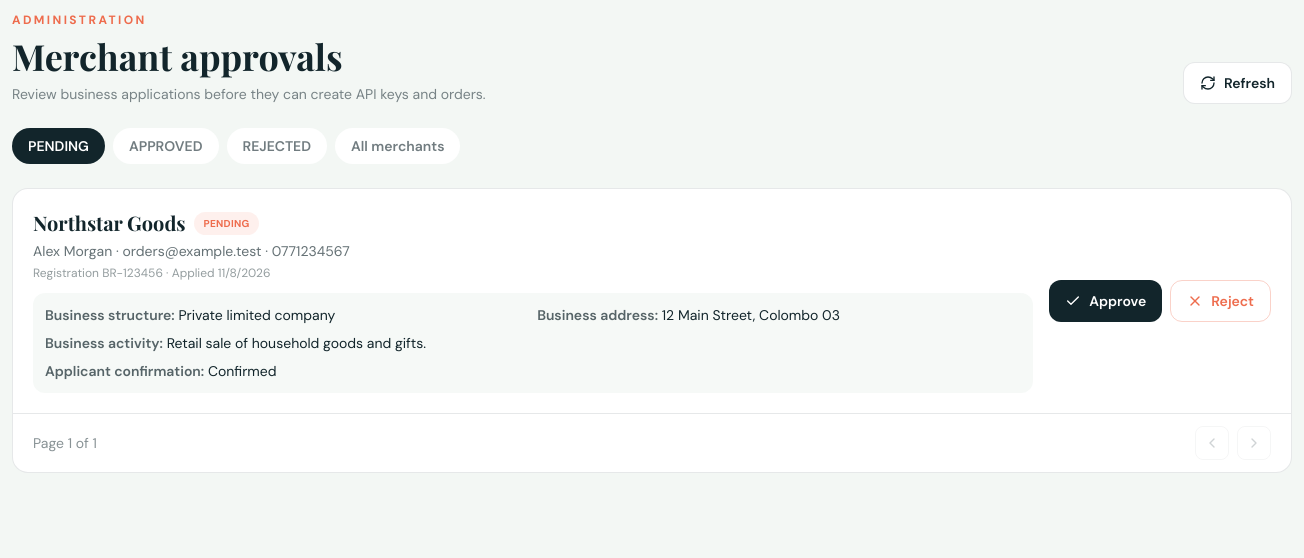
Test: MerchantApprovalsPage › refreshes the current ALL filter when approval finishes after the filter changes
Expected: the heading "Northstar Goods" is shown, top-left (33, 209), bottom-right (186, 237)
Click the button "Approve" at [1106, 301], box top-left (1049, 280), bottom-right (1162, 322)
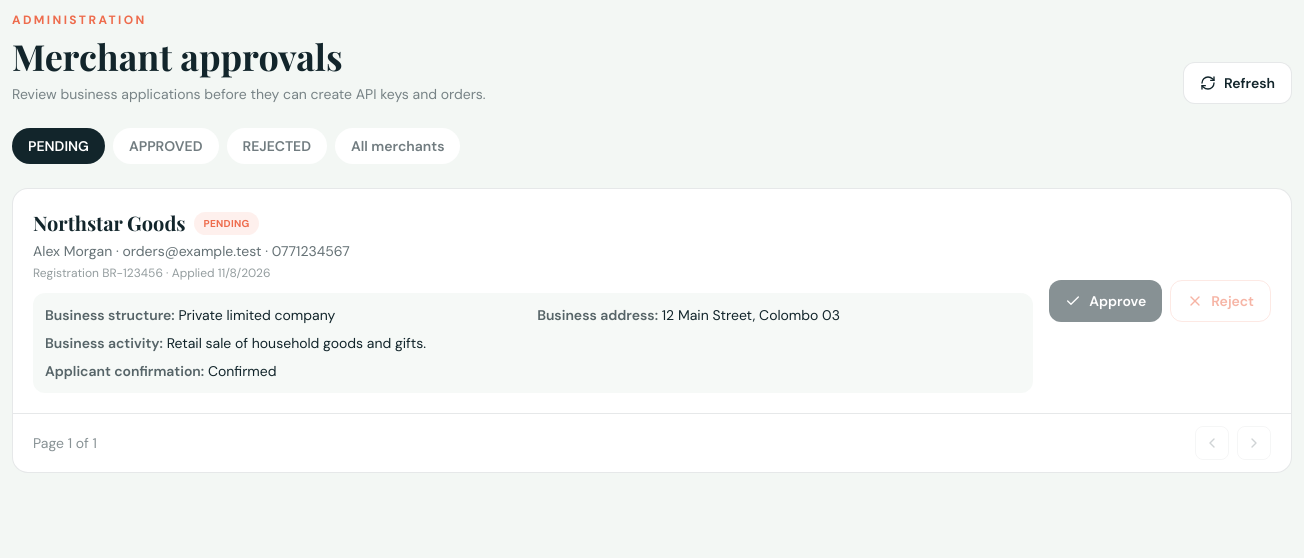
Click the button "All merchants" at [398, 146], box top-left (335, 128), bottom-right (460, 164)
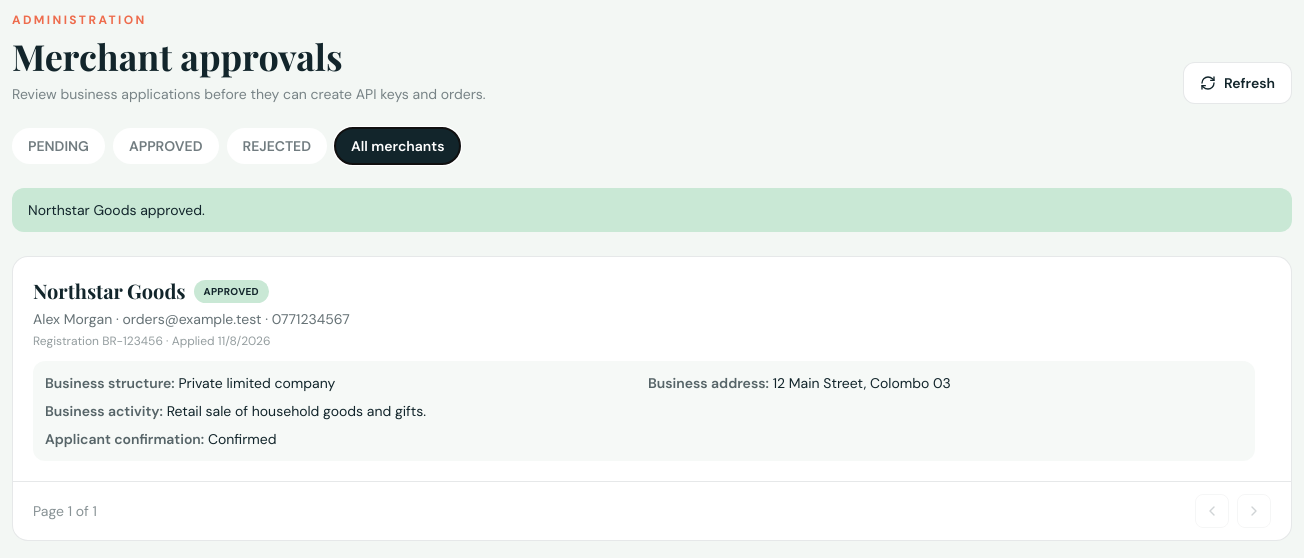
Expected: the heading "Northstar Goods" is shown, top-left (33, 277), bottom-right (186, 305)
Expected: the message reads "Northstar Goods approved.", top-left (28, 201), bottom-right (205, 219)
Expected: the text "APPROVED" is shown, top-left (194, 280), bottom-right (269, 302)
